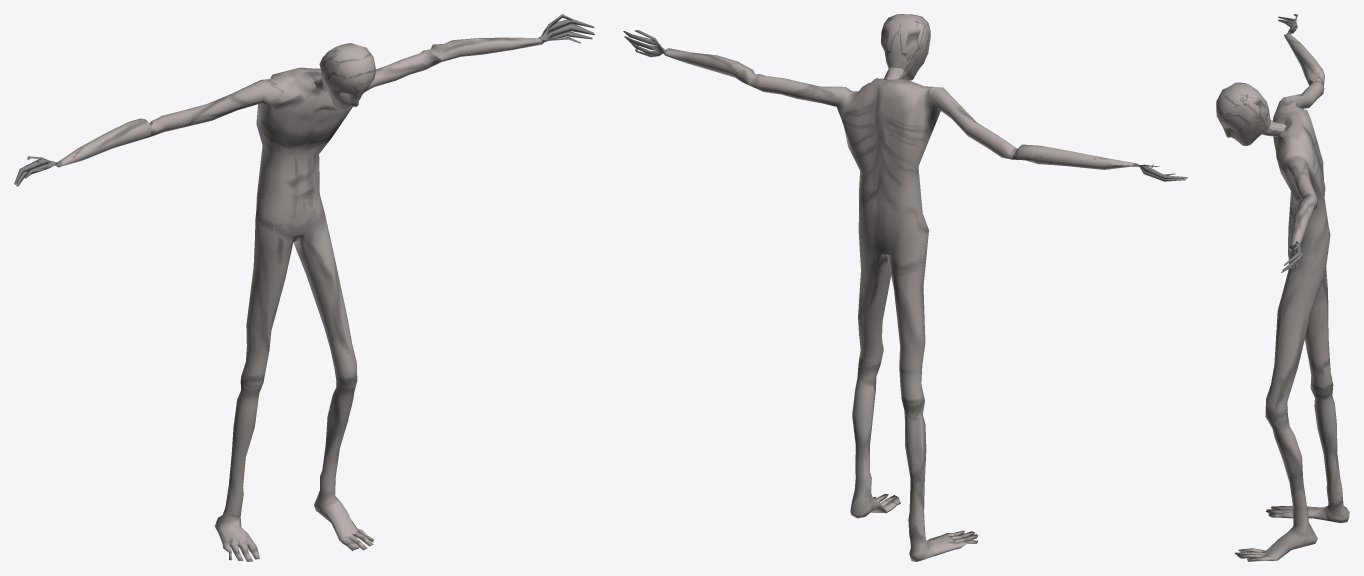
The model's file is phantom.obj.
The picture shows the model from 3 angles, left to right: view 1: azimuth 30°, elevation 25°; view 2: azimuth 150°, elevation 25°; view 3: azimuth 270°, elevation 25°; orthographic projection. The views are drawn at different scales.
Visible parts, largest first — view 1: body_Cylinder.010, head_baseHeadMesh.002; view 2: body_Cylinder.010, head_baseHeadMesh.002; view 3: body_Cylinder.010, head_baseHeadMesh.002.
Boxes of the visible parts, left/top/right/bottom form: body_Cylinder.010: left=14, top=14, right=594, bottom=561; head_baseHeadMesh.002: left=313, top=43, right=376, bottom=110; body_Cylinder.010: left=623, top=30, right=1187, bottom=561; head_baseHeadMesh.002: left=881, top=14, right=930, bottom=80; body_Cylinder.010: left=1234, top=14, right=1349, bottom=561; head_baseHeadMesh.002: left=1216, top=82, right=1286, bottom=145.
Bounding box in the file's own units: 3.89 × 3.24 × 0.8445.
Materials: 3 (2 with a texture image).
